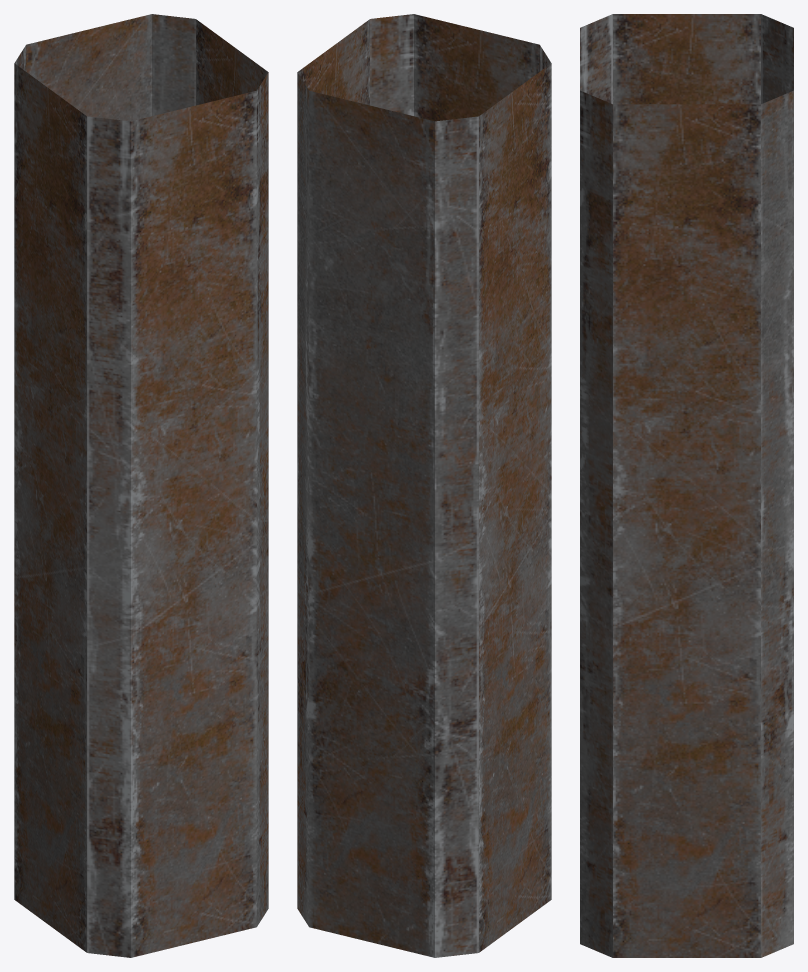
Rendered from massive_beam.fbx.
The picture shows the model from 3 angles, left to right: view 1: azimuth 30°, elevation 25°; view 2: azimuth 150°, elevation 25°; view 3: azimuth 270°, elevation 25°; orthographic projection. The views are drawn at different scales.
Visible parts, largest first — view 1: massive_beam; view 2: massive_beam; view 3: massive_beam.
Boxes of the visible parts, left/top/right/bottom form: massive_beam: left=14, top=14, right=268, bottom=957; massive_beam: left=297, top=14, right=551, bottom=957; massive_beam: left=580, top=14, right=793, bottom=957.
Size of the model in its own units: 200 by 881 by 200.
